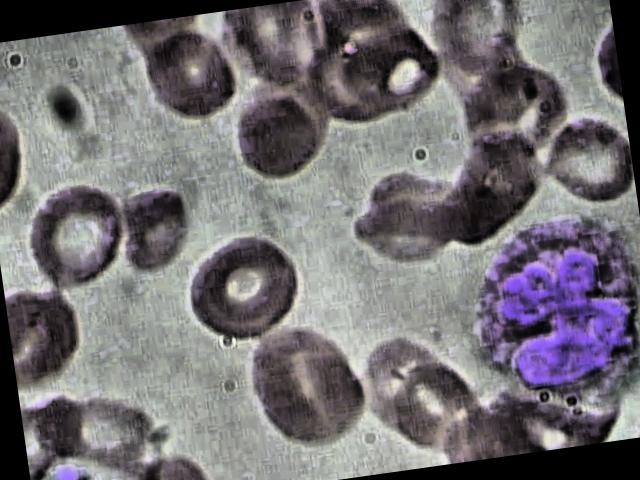Platelets: (45, 457, 93, 480)
RBC: (248, 334, 381, 456), (182, 222, 308, 346), (9, 174, 135, 296), (454, 52, 577, 160), (348, 191, 470, 278), (115, 164, 200, 285), (230, 86, 328, 188), (144, 23, 242, 125), (540, 110, 636, 213), (5, 284, 94, 394), (423, 0, 535, 81), (244, 321, 350, 405)
WBC: (452, 202, 640, 419)
